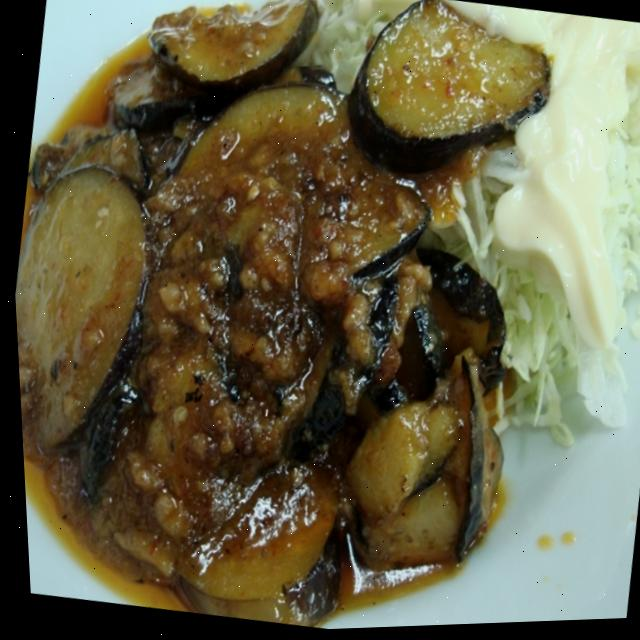鸡蛋料理: (0, 0, 598, 640)
